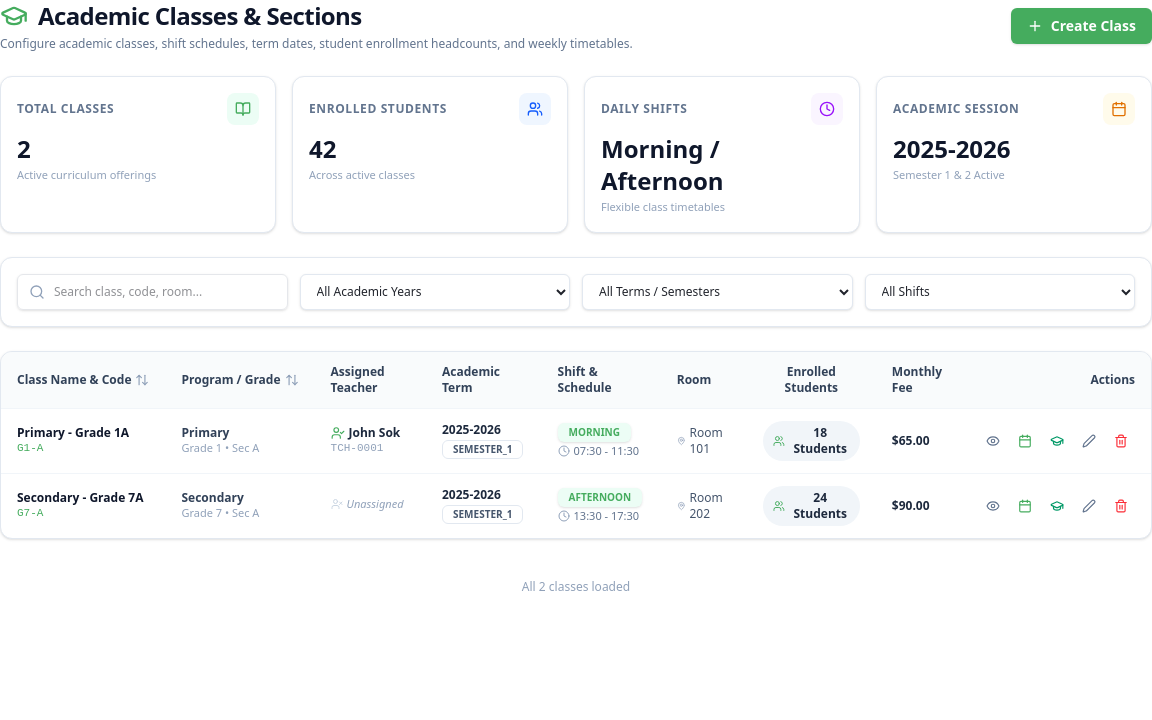
it: ClassListTable › opens Create Class dialog on button click
What coordinates should you click on to do the following:
click the button "Create Class"
I would click on:
 (1081, 26)
Its box is [1011,8,1151,44].
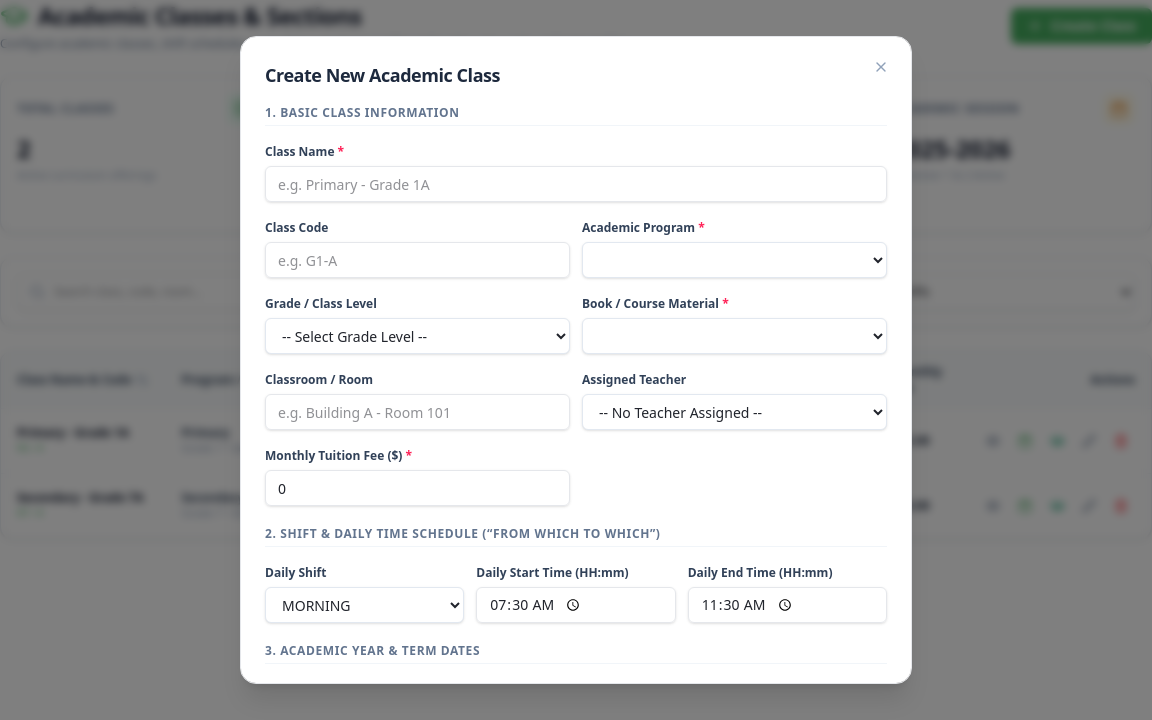
Now the heading "Create New Academic Class" is shown, box [265,63,500,87]
